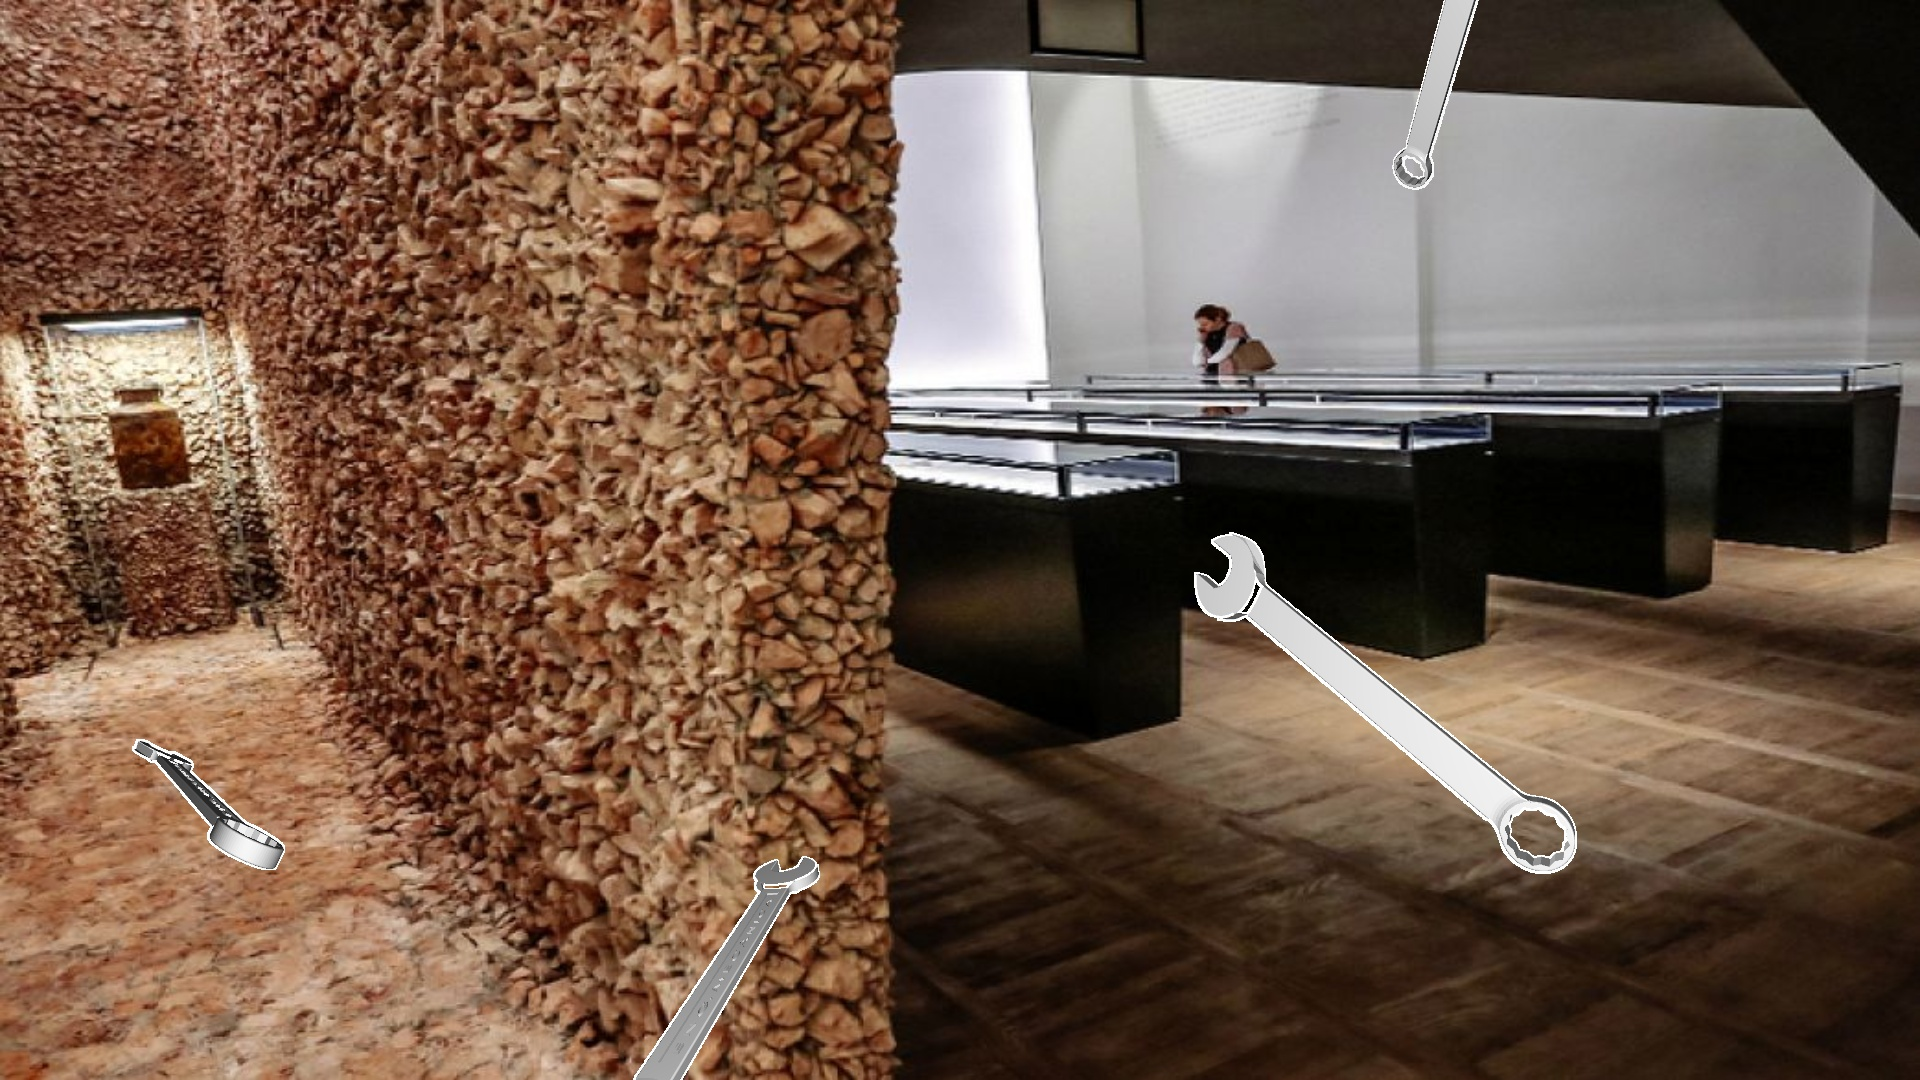Mixed Key: (1193, 531, 1576, 873), (633, 856, 819, 1079), (132, 738, 284, 869), (1393, 0, 1478, 189)
